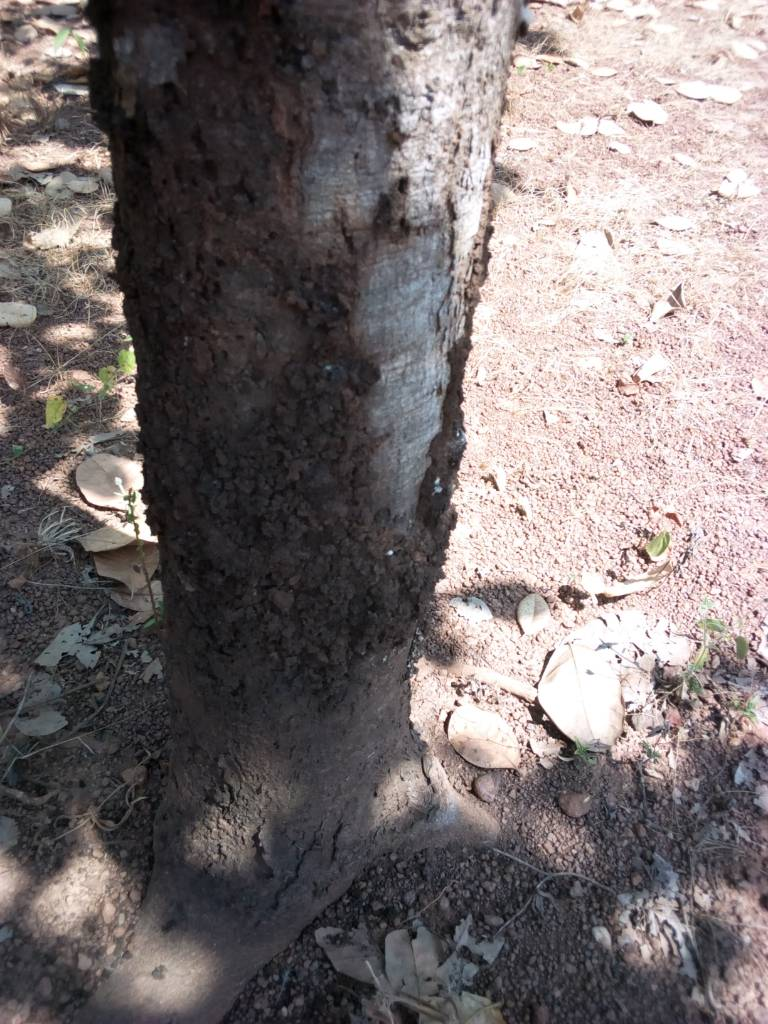Termites: (138, 138, 421, 855)
